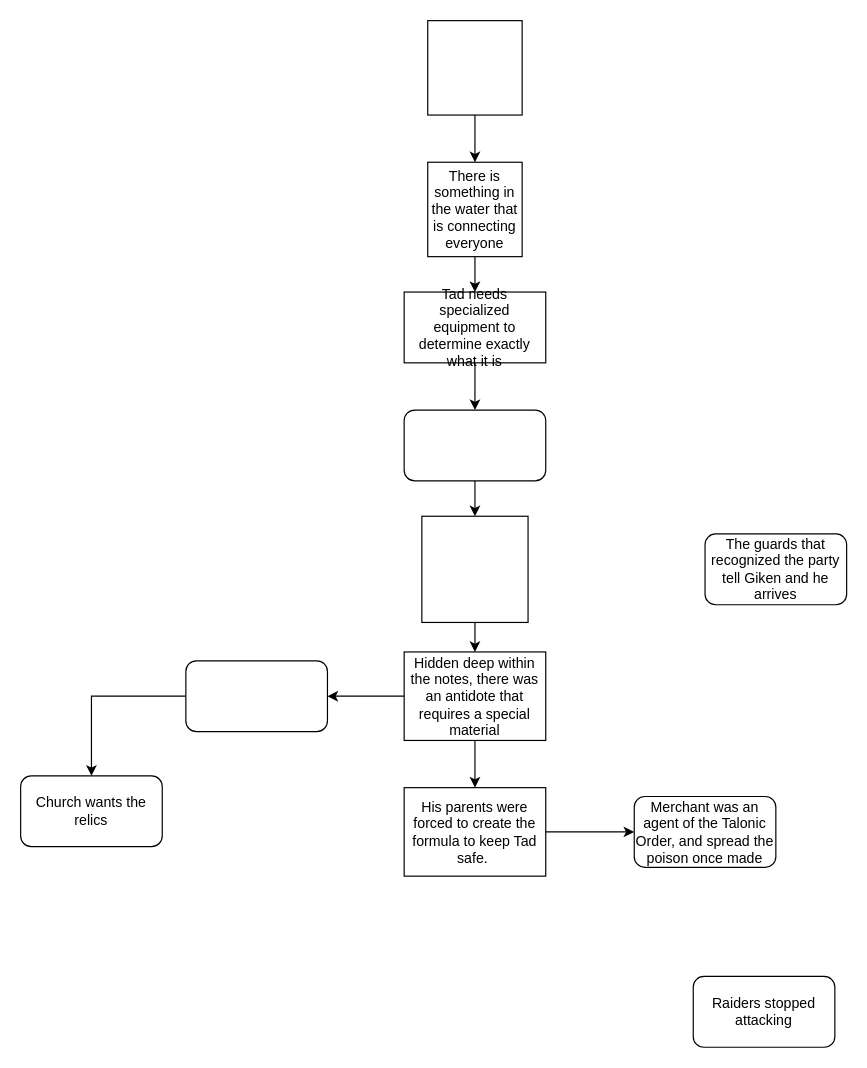
The diagram is 867 pixels wide and 1068 high, and some of its shapes have lost their labels. The shapes that lost their labels are listed below. From the top down, each one's box as (x1, y1, x2, y2) in pixels, then its label:
(427, 19, 522, 115): A pathway illuminates to a well in the city
(403, 409, 546, 481): The 3 Alchemists
(421, 515, 528, 622): Tad finds a hidden formula for a timed poison his parents created
(185, 660, 327, 732): The crazy witch in the woods
